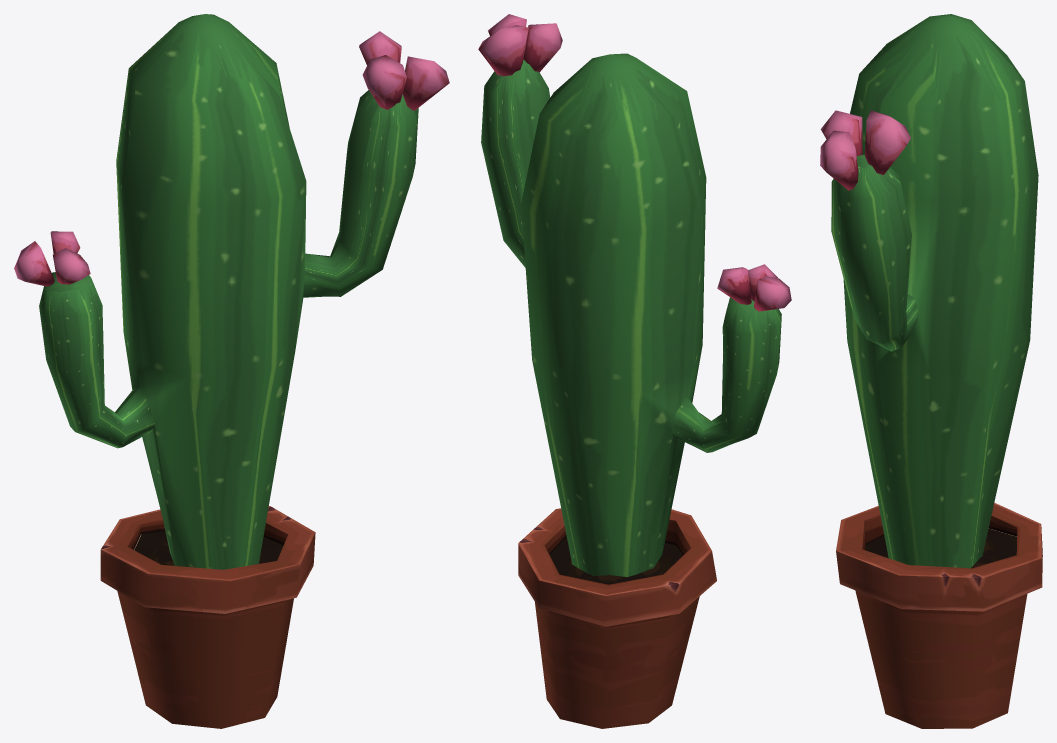
The model's file is SM_PROP_plant_interior_02.fbx.
3 views of the same model, side by side, from view 1: azimuth 30°, elevation 25°; view 2: azimuth 150°, elevation 25°; view 3: azimuth 270°, elevation 25° (orthographic). The views are drawn at different scales.
Visible parts, largest first — view 1: SM_PROP_plant_interior_02; view 2: SM_PROP_plant_interior_02; view 3: SM_PROP_plant_interior_02.
Part boxes in pixels (<box>): SM_PROP_plant_interior_02: <box>14,14,449,728</box>; SM_PROP_plant_interior_02: <box>478,14,791,728</box>; SM_PROP_plant_interior_02: <box>820,14,1042,728</box>.
Bounding box in the file's own units: 59.43 × 105 × 31.
